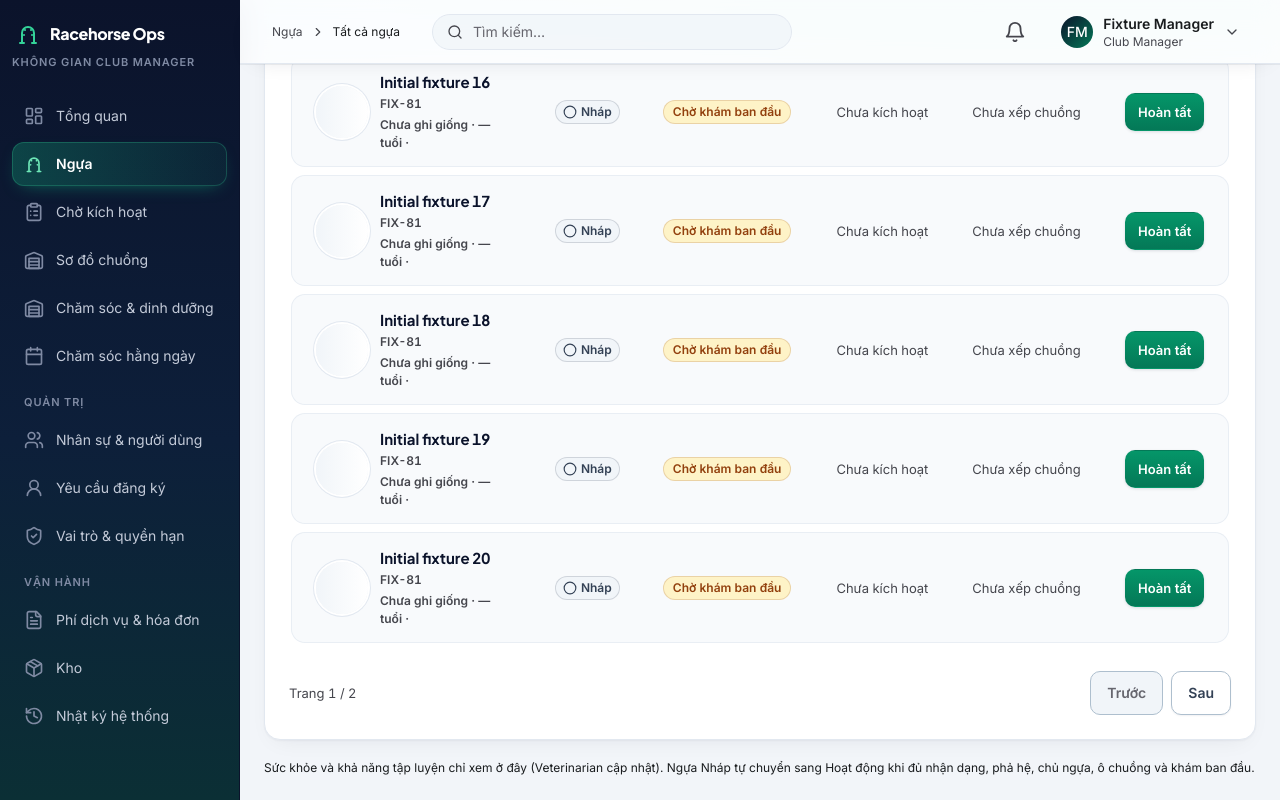
Test: returns to a valid page when the result set shrinks during pagination
The width and height of the screenshot is (1280, 800).
(page scrolled)
Click the button "Sau" at x=1201, y=693, box [1171,671,1231,715]
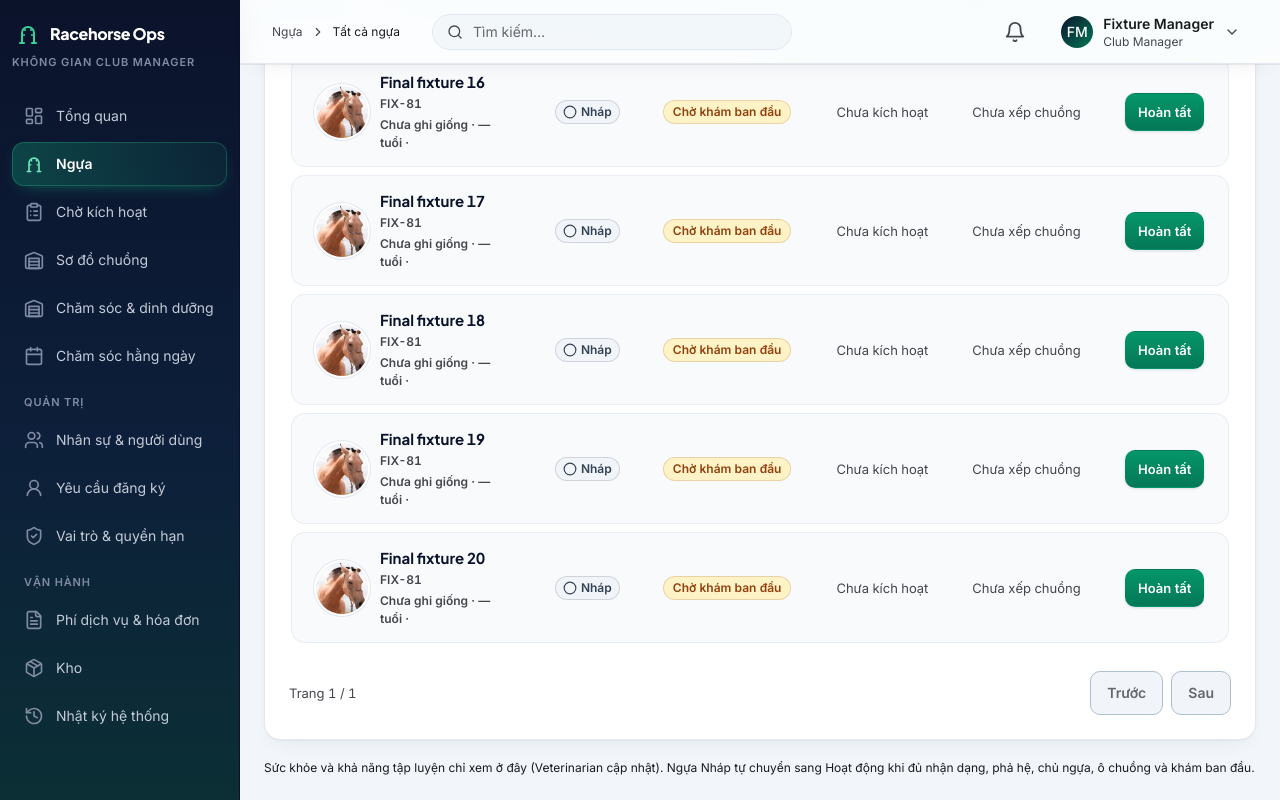
Expected: the button "Trước" is disabled, [1090,671,1163,715]
Expected: the message reads "Trang 1 / 1", [289,683,356,703]
Expected: the button "Sau" is disabled, [1171,671,1231,715]
